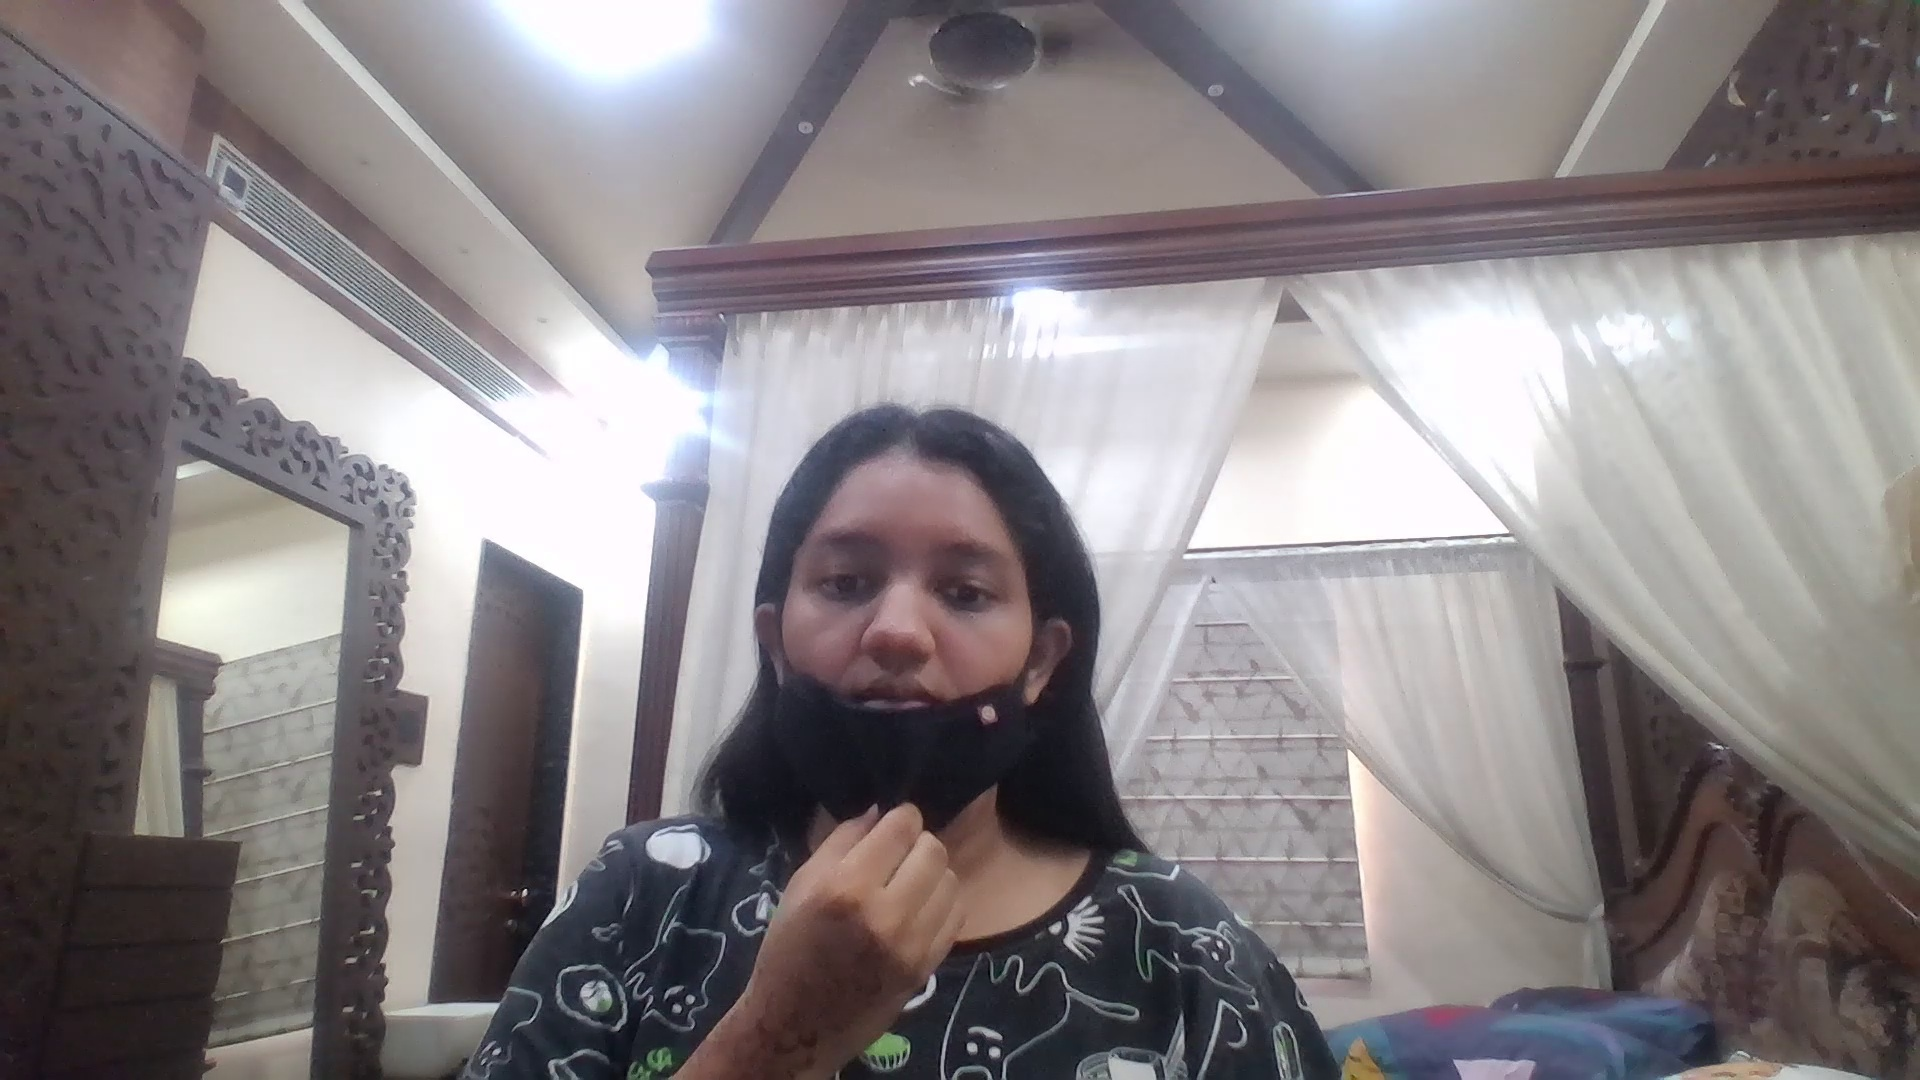No Mask: (759, 616, 1056, 825)
